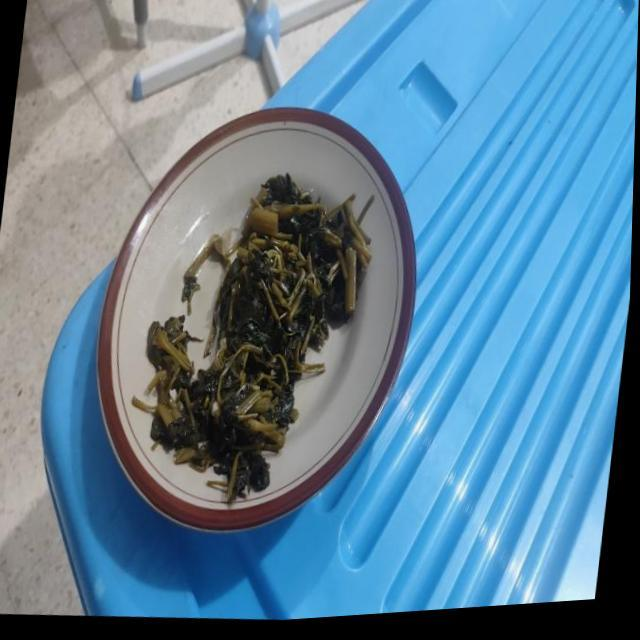tumis_kangkung: (147, 173, 356, 502)
